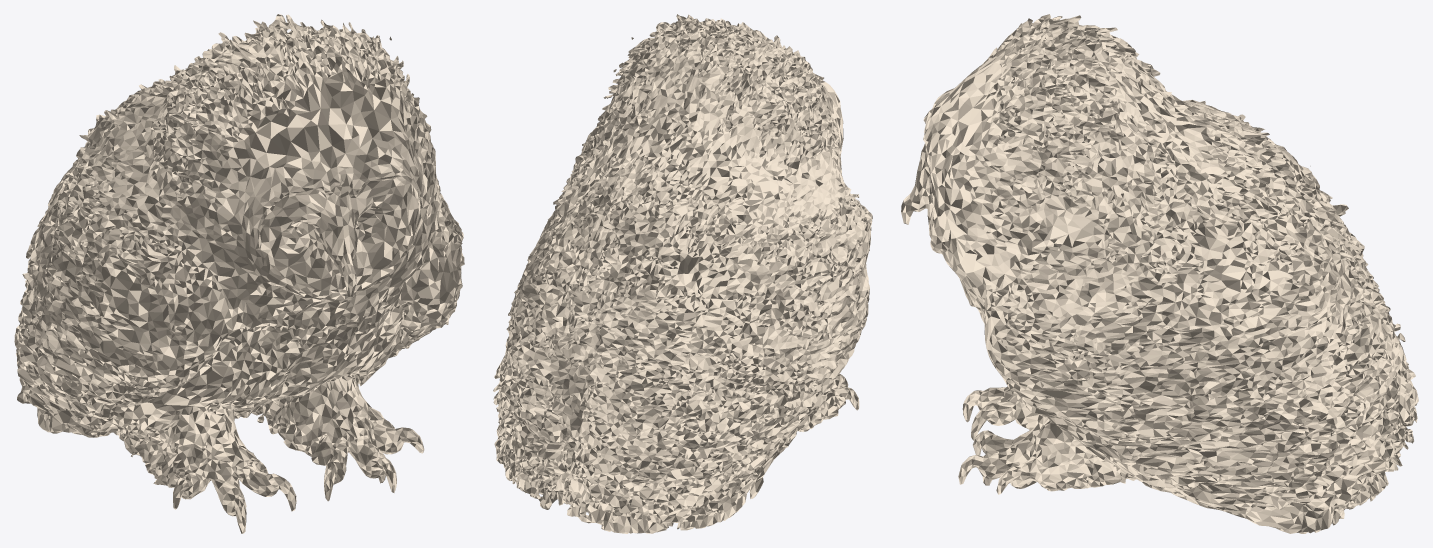
The model's file is run99b_cream_72000_ART_UNAPPROVED.glb.
3 renders of one model, left to right at view 1: azimuth 30°, elevation 25°; view 2: azimuth 150°, elevation 25°; view 3: azimuth 270°, elevation 25°, orthographic. The views are drawn at different scales.
Parts seen in each view (by area): view 1: run99b_retopo_72000_PBR_UNAPPROVED; view 2: run99b_retopo_72000_PBR_UNAPPROVED; view 3: run99b_retopo_72000_PBR_UNAPPROVED.
Boxes of the visible parts, x1,y1,x2,y2 form: run99b_retopo_72000_PBR_UNAPPROVED: (14,14,464,533); run99b_retopo_72000_PBR_UNAPPROVED: (493,14,872,533); run99b_retopo_72000_PBR_UNAPPROVED: (901,14,1418,533).
Size of the model in its own units: 1.55 by 1.91 by 1.96.
